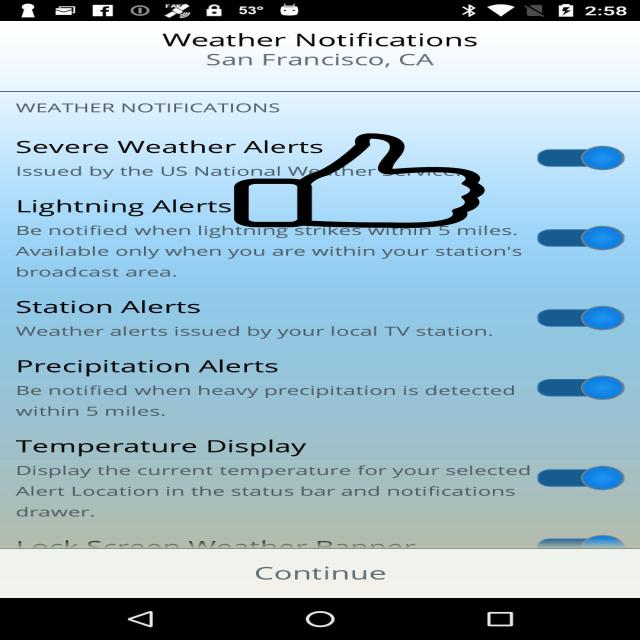privacy zuckering: (231, 133, 488, 228)
